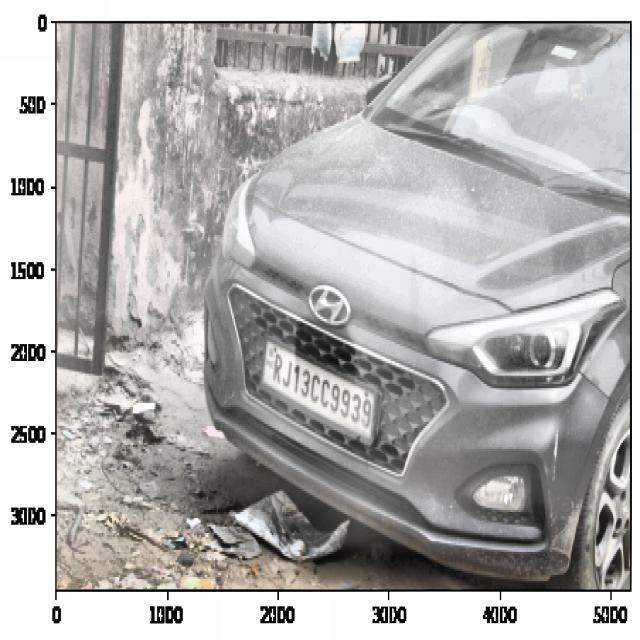license_plate: (267, 347, 374, 435)
